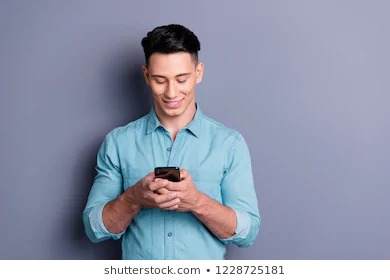F_shirt: (88, 106, 260, 255)
